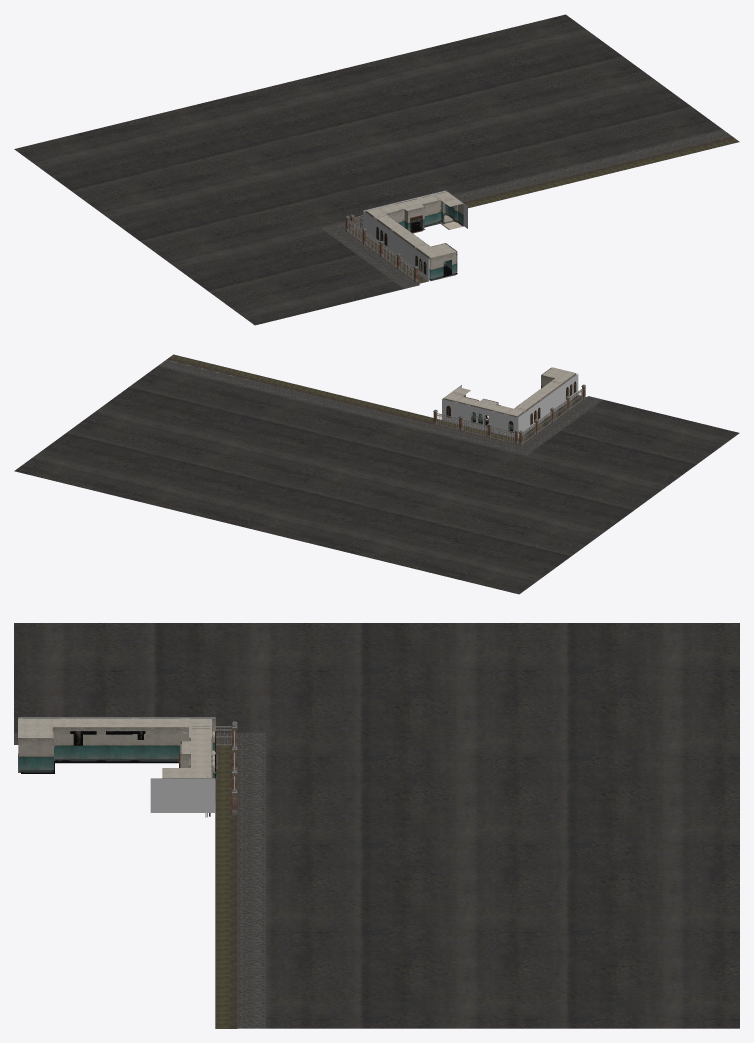
The model's file is st4_215_0_terrain_00ms.fbx.
The picture shows the model from 3 angles, top to bottom: view 1: azimuth 30°, elevation 25°; view 2: azimuth 150°, elevation 25°; view 3: azimuth 270°, elevation 25°; orthographic projection. The views are drawn at different scales.
Visible parts, largest first — view 1: LOD_1_Group_0_Sub_3__st1_townAsphalt00_Mat, LOD_1_Group_0_Sub_2__st1_townGround02_Mat, LOD_1_Group_0_Sub_1__st1_townGround01_Mat, LOD_1_Group_0_Sub_7__st2_police1fLeftWall01, LOD_1_Group_0_Sub_12__st2_police1fLeftCeiling06, LOD_1_Group_0_Sub_13__Wall_Mat, LOD_1_Group_0_Sub_25__st1_townPoliceFence01_Mat; view 2: LOD_1_Group_0_Sub_3__st1_townAsphalt00_Mat, LOD_1_Group_0_Sub_2__st1_townGround02_Mat, LOD_1_Group_0_Sub_1__st1_townGround01_Mat, LOD_1_Group_0_Sub_13__Wall_Mat, LOD_1_Group_0_Sub_25__st1_townPoliceFence01_Mat, LOD_1_Group_0_Sub_12__st2_police1fLeftCeiling06, LOD_1_Group_0_Sub_7__st2_police1fLeftWall01, LOD_1_Group_0_Sub_24__st1_townBuild04_Mat; view 3: LOD_1_Group_0_Sub_3__st1_townAsphalt00_Mat, LOD_1_Group_0_Sub_2__st1_townGround02_Mat, LOD_1_Group_0_Sub_1__st1_townGround01_Mat, LOD_1_Group_0_Sub_7__st2_police1fLeftWall01, LOD_1_Group_0_Sub_12__st2_police1fLeftCeiling06, LOD_1_Group_0_Sub_13__Wall_Mat.
Part boxes in pixels (left/top/right/bottom): LOD_1_Group_0_Sub_3__st1_townAsphalt00_Mat: left=14, top=14, right=722, bottom=325; LOD_1_Group_0_Sub_2__st1_townGround02_Mat: left=321, top=129, right=732, bottom=288; LOD_1_Group_0_Sub_1__st1_townGround01_Mat: left=348, top=136, right=739, bottom=283; LOD_1_Group_0_Sub_7__st2_police1fLeftWall01: left=365, top=191, right=463, bottom=278; LOD_1_Group_0_Sub_12__st2_police1fLeftCeiling06: left=367, top=191, right=463, bottom=257; LOD_1_Group_0_Sub_13__Wall_Mat: left=363, top=190, right=467, bottom=281; LOD_1_Group_0_Sub_25__st1_townPoliceFence01_Mat: left=348, top=215, right=414, bottom=279; LOD_1_Group_0_Sub_3__st1_townAsphalt00_Mat: left=14, top=366, right=739, bottom=594; LOD_1_Group_0_Sub_2__st1_townGround02_Mat: left=158, top=359, right=602, bottom=455; LOD_1_Group_0_Sub_1__st1_townGround01_Mat: left=167, top=354, right=586, bottom=445; LOD_1_Group_0_Sub_13__Wall_Mat: left=442, top=374, right=578, bottom=438; LOD_1_Group_0_Sub_25__st1_townPoliceFence01_Mat: left=436, top=388, right=582, bottom=443; LOD_1_Group_0_Sub_12__st2_police1fLeftCeiling06: left=444, top=367, right=575, bottom=415; LOD_1_Group_0_Sub_7__st2_police1fLeftWall01: left=443, top=367, right=576, bottom=430; LOD_1_Group_0_Sub_24__st1_townBuild04_Mat: left=433, top=384, right=585, bottom=445; LOD_1_Group_0_Sub_3__st1_townAsphalt00_Mat: left=14, top=623, right=739, bottom=1028; LOD_1_Group_0_Sub_2__st1_townGround02_Mat: left=14, top=732, right=265, bottom=1028; LOD_1_Group_0_Sub_1__st1_townGround01_Mat: left=215, top=745, right=237, bottom=1028; LOD_1_Group_0_Sub_7__st2_police1fLeftWall01: left=18, top=718, right=215, bottom=778; LOD_1_Group_0_Sub_12__st2_police1fLeftCeiling06: left=18, top=719, right=211, bottom=777; LOD_1_Group_0_Sub_13__Wall_Mat: left=18, top=717, right=215, bottom=812.
Size of the model in its own units: 100 by 4.77 by 75.81.
